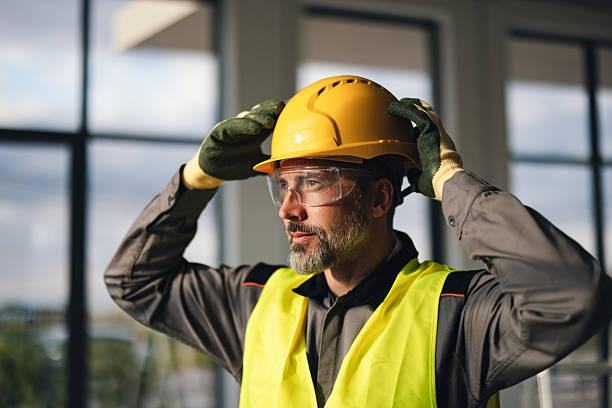goggle: (258, 168, 370, 207)
helmet: (248, 68, 414, 172)
vest: (232, 235, 466, 408)
